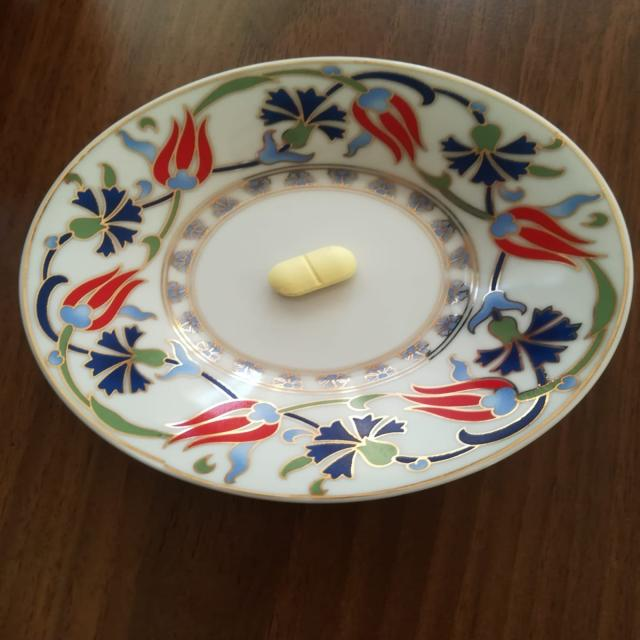pills: (260, 239, 369, 303)
